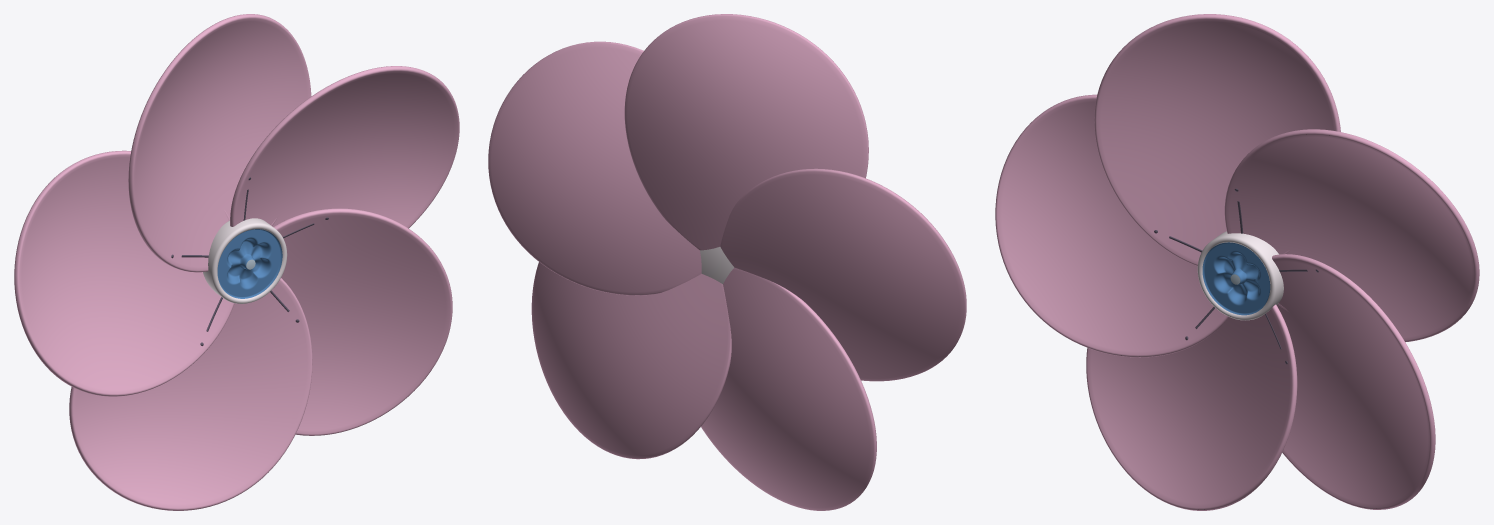
Rendered from flower.glb.
3 renders of one model, left to right at view 1: azimuth 30°, elevation 25°; view 2: azimuth 150°, elevation 25°; view 3: azimuth 330°, elevation 25°, orthographic. The views are drawn at different scales.
Parts seen in each view (by area): view 1: Flower; view 2: Flower; view 3: Flower.
Boxes of the visible parts, x1=… form: Flower: x1=14, y1=14, x2=459, y2=510; Flower: x1=488, y1=14, x2=966, y2=510; Flower: x1=995, y1=14, x2=1479, y2=510.
Size of the model in its own units: 1.95 by 1.95 by 0.2447.
